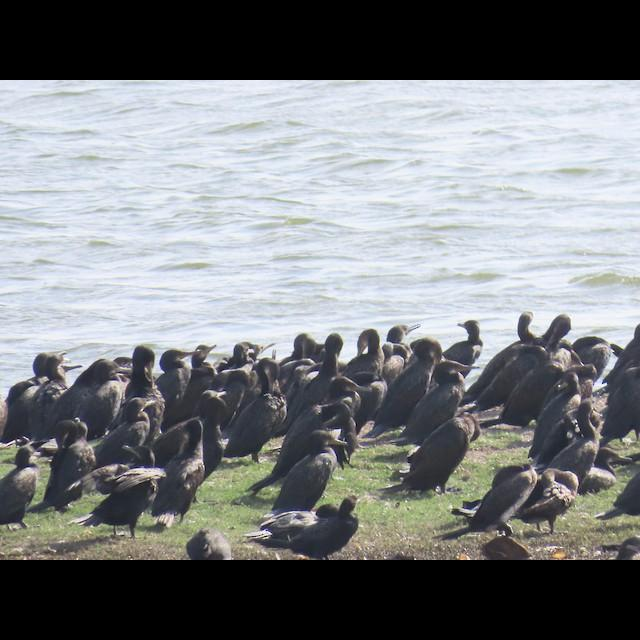cormorant: (271, 425, 349, 513), (0, 441, 46, 529), (447, 317, 485, 368)
